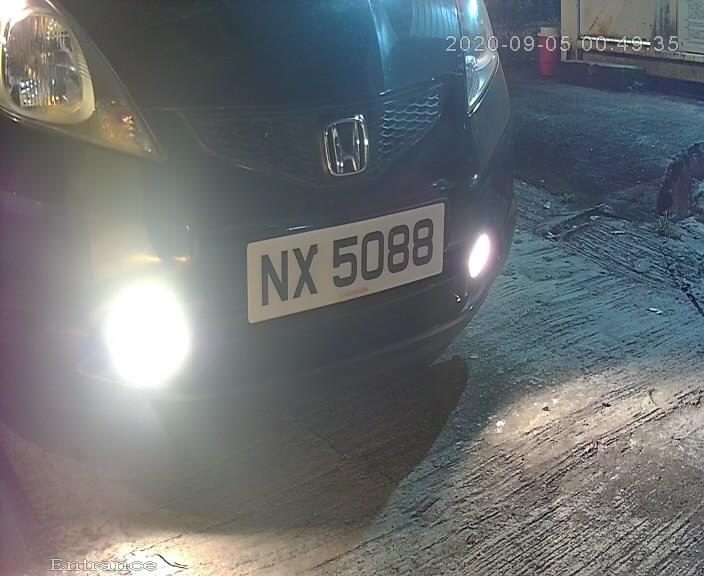License Plate: (221, 193, 457, 332)
